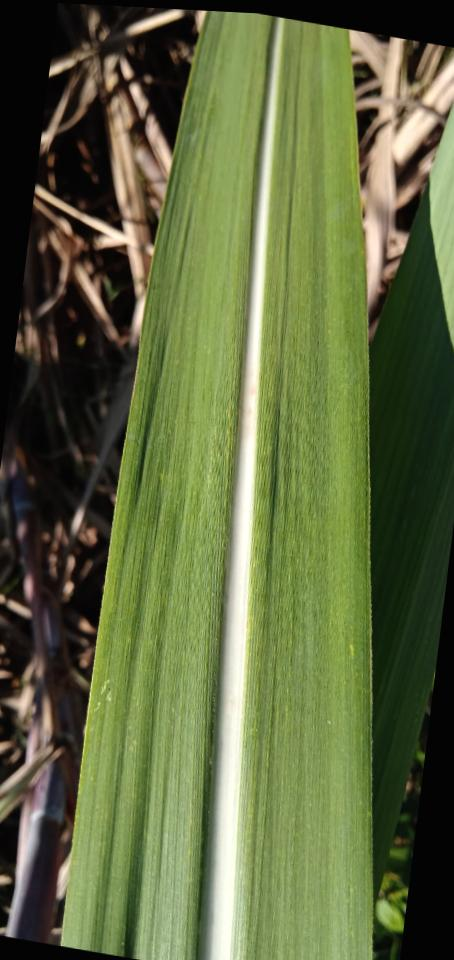Healthy: (62, 11, 373, 960)
